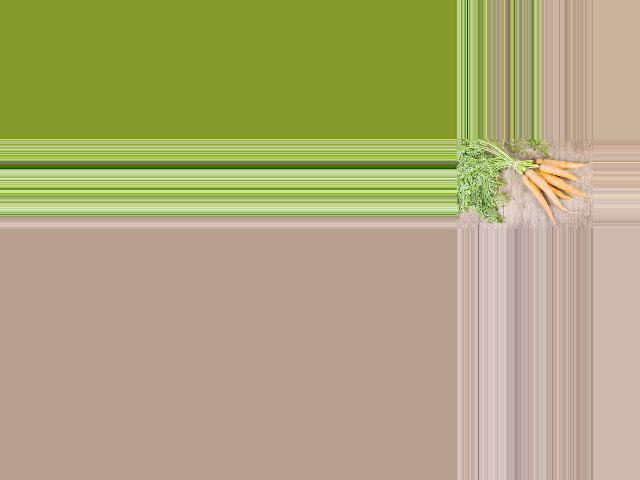carrot: (533, 157, 580, 184)
